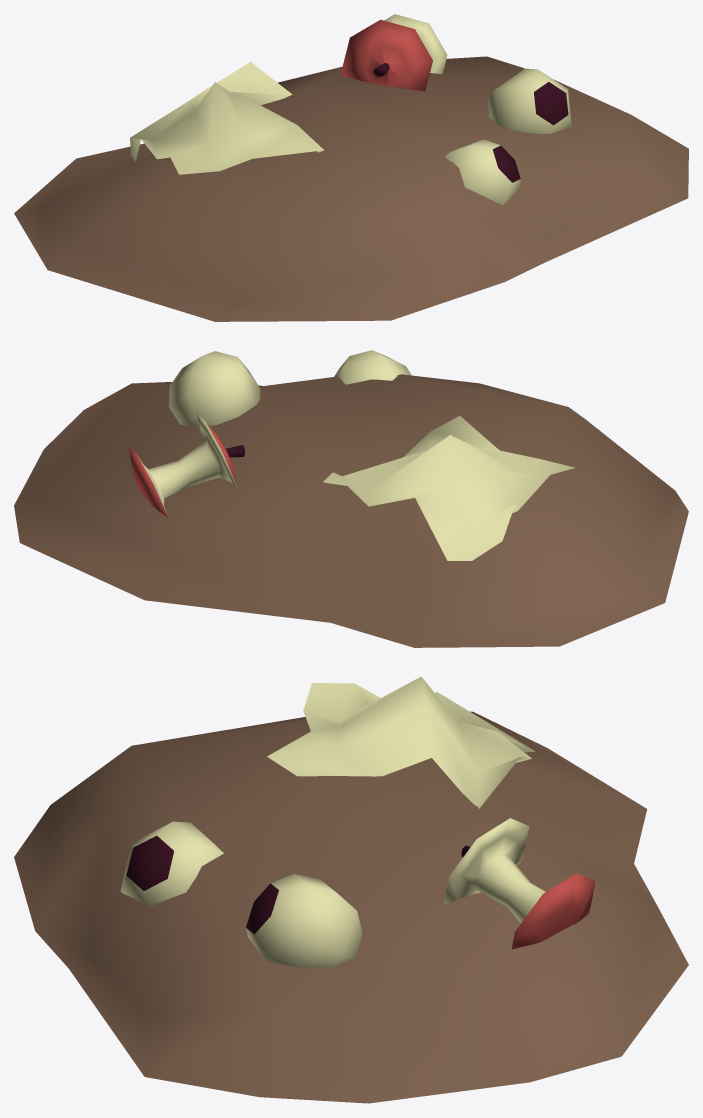
File: Mess.fbx
3 views of the same model, one above another, from view 1: azimuth 30°, elevation 25°; view 2: azimuth 150°, elevation 25°; view 3: azimuth 270°, elevation 25° (orthographic). The views are drawn at different scales.
Parts seen in each view (by area): view 1: Mess; view 2: Mess; view 3: Mess.
Part boxes in pixels (box(x1,y1,x2,y2)): Mess: box(14, 14, 688, 321); Mess: box(14, 350, 688, 647); Mess: box(14, 676, 688, 1103).
Size of the model in its own units: 349 by 72.09 by 261.
